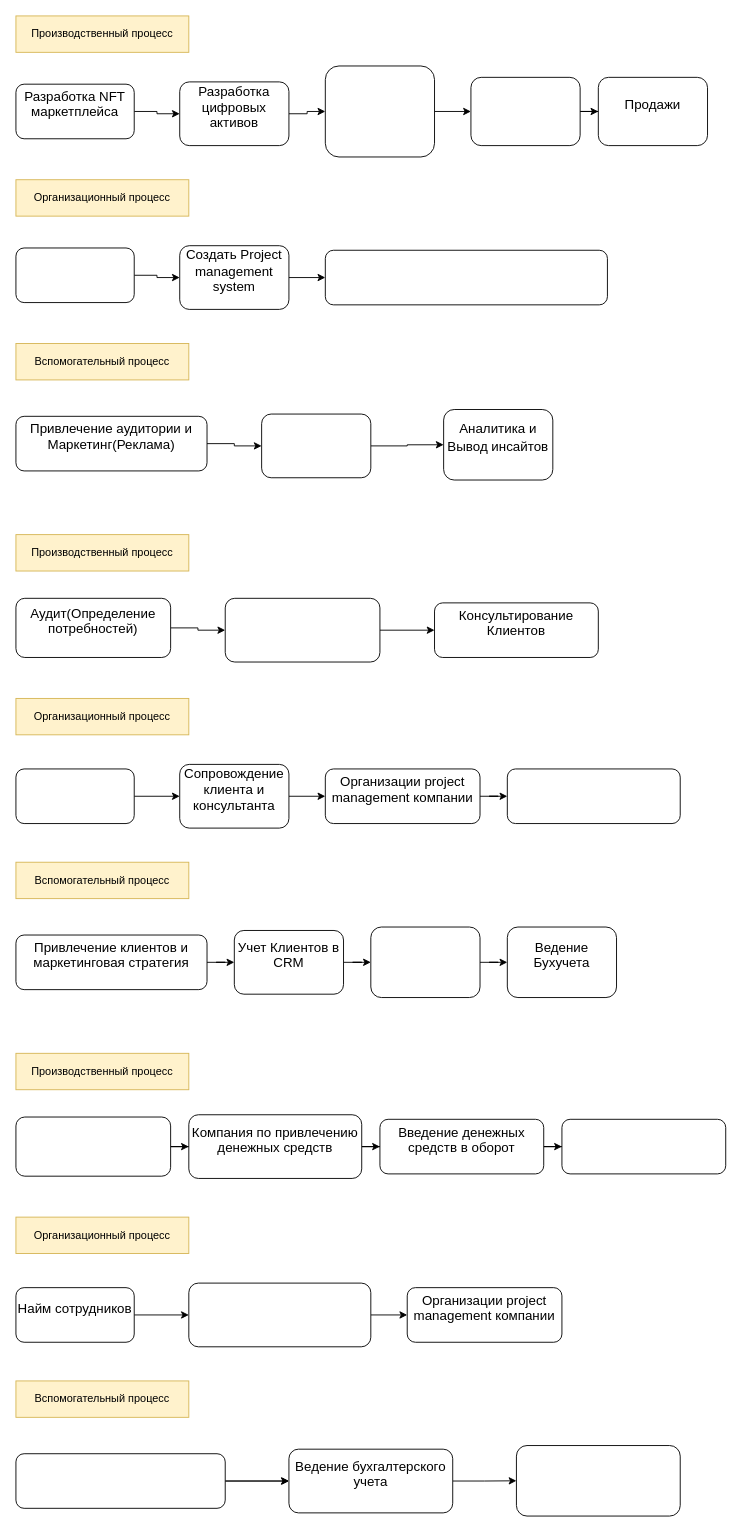
This 742x1532 diagram has some shape labels left out. Each missing label, with the box of its shape:
Анализ бизнес процессов компании: (224, 597, 380, 662)
Выделение денежных средств на нужды людей: (561, 1118, 726, 1174)
Найм сотрудников в компании: (15, 768, 134, 824)
Нанять разработчиков: (15, 247, 134, 303)
Организация выездных мероприятий: (516, 1445, 680, 1516)
Открытие банковских счетов для фонда: (15, 1116, 171, 1176)
Привязка NFT токенов к цифровым активам: (324, 65, 435, 157)
Продажи или поиск клиентов: (261, 413, 371, 478)
Размещение NFT активов на маркетплейсе: (470, 76, 580, 146)
Распределение финансов по закупкам и созданиям NFT коллекции: (324, 249, 607, 305)
Управление денежными средствами: (188, 1282, 371, 1347)
Управление финансовыми активами компании: (506, 768, 680, 824)
Юридическое консультация: (370, 926, 480, 998)
Юридическое сопровождение и Документооборот: (15, 1453, 225, 1508)
